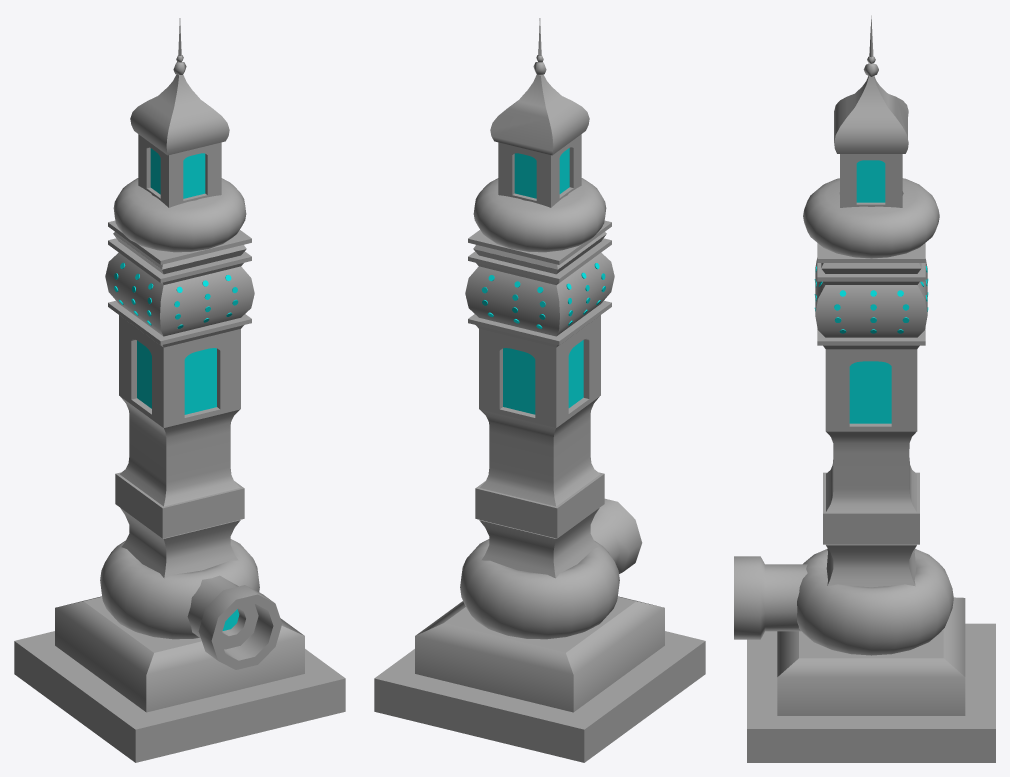
The model's file is Tower_asset_01_combined.fbx.
3 renders of one model, left to right at view 1: azimuth 30°, elevation 25°; view 2: azimuth 150°, elevation 25°; view 3: azimuth 270°, elevation 25°, orthographic. The views are drawn at different scales.
Visible parts, largest first — view 1: pCube8, pCube1; view 2: pCube8, pCube1; view 3: pCube8, pCube1.
Boxes of the visible parts, x1=… form: pCube8: x1=100, y1=18, x2=282, y2=669; pCube1: x1=14, y1=596, x2=345, y2=762; pCube8: x1=460, y1=18, x2=642, y2=639; pCube1: x1=374, y1=596, x2=705, y2=762; pCube8: x1=734, y1=15, x2=953, y2=655; pCube1: x1=747, y1=597, x2=995, y2=762.
Bounding box in the file's own units: 2.34 × 7.22 × 2.46.
